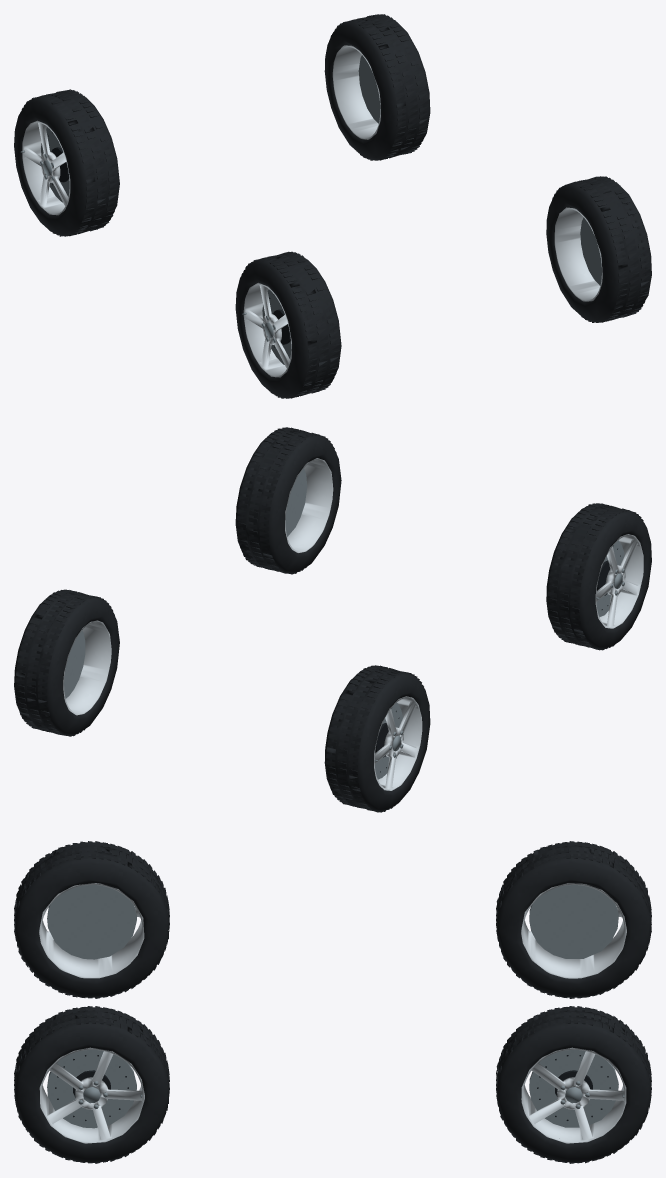
Rendered from campus-hatchback-medium-wheels.glb.
The picture shows the model from 3 angles, top to bottom: view 1: azimuth 30°, elevation 25°; view 2: azimuth 150°, elevation 25°; view 3: azimuth 270°, elevation 25°; orthographic projection. The views are drawn at different scales.
Parts seen in each view (by area): view 1: Wheel0:rubber, Wheel1:rubber, Wheel3:rubber, Wheel2:rubber, Wheel2:chrome, Wheel0:chrome, Wheel3:chrome, Wheel1:chrome, Wheel3:steel, Wheel1:steel, Wheel0:steel, Wheel2:steel; view 2: Wheel0:rubber, Wheel1:rubber, Wheel3:rubber, Wheel2:rubber, Wheel2:chrome, Wheel0:chrome, Wheel3:chrome, Wheel1:chrome, Wheel3:steel, Wheel1:steel, Wheel0:steel, Wheel2:steel; view 3: Wheel1:rubber, Wheel0:rubber, Wheel3:rubber, Wheel2:rubber, Wheel0:steel, Wheel2:steel, Wheel3:chrome, Wheel1:chrome, Wheel1:steel, Wheel3:steel, Wheel2:chrome, Wheel0:chrome.
Boxes of the visible parts, x1,y1,x2,y2 form: Wheel0:rubber: [235, 251, 341, 398]; Wheel1:rubber: [546, 176, 651, 322]; Wheel3:rubber: [324, 14, 430, 160]; Wheel2:rubber: [14, 89, 119, 236]; Wheel2:chrome: [22, 120, 70, 215]; Wheel0:chrome: [243, 282, 291, 377]; Wheel3:chrome: [332, 45, 380, 139]; Wheel1:chrome: [554, 207, 602, 301]; Wheel3:steel: [358, 55, 380, 123]; Wheel1:steel: [580, 217, 601, 285]; Wheel0:steel: [242, 289, 291, 364]; Wheel2:steel: [21, 127, 69, 202]; Wheel0:rubber: [546, 503, 651, 650]; Wheel1:rubber: [235, 427, 341, 574]; Wheel3:rubber: [14, 589, 119, 736]; Wheel2:rubber: [324, 665, 430, 812]; Wheel2:chrome: [374, 696, 422, 790]; Wheel0:chrome: [595, 534, 643, 628]; Wheel3:chrome: [63, 620, 111, 715]; Wheel1:chrome: [285, 458, 333, 552]; Wheel3:steel: [64, 630, 85, 698]; Wheel1:steel: [285, 468, 307, 536]; Wheel0:steel: [596, 540, 624, 617]; Wheel2:steel: [374, 702, 403, 779]; Wheel1:rubber: [14, 1006, 169, 1163]; Wheel0:rubber: [14, 841, 169, 998]; Wheel3:rubber: [496, 1006, 651, 1163]; Wheel2:rubber: [496, 841, 651, 998]; Wheel0:steel: [47, 885, 136, 959]; Wheel2:steel: [529, 885, 618, 958]; Wheel3:chrome: [521, 1047, 626, 1143]; Wheel1:chrome: [39, 1047, 144, 1143]; Wheel1:steel: [47, 1050, 142, 1128]; Wheel3:steel: [529, 1050, 624, 1127]; Wheel2:chrome: [521, 883, 626, 978]; Wheel0:chrome: [39, 883, 144, 978].
Bounding box in the file's own units: 1.95 × 0.6798 × 2.78.
Materials: 4 (4 with a texture image).
